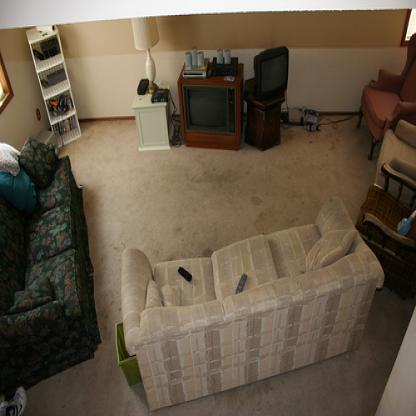chair: (355, 165, 415, 298), (357, 31, 415, 160), (375, 122, 415, 207)
sofa: (121, 195, 384, 415), (0, 127, 103, 398)
tvmonitor: (177, 65, 243, 154), (254, 45, 292, 100)
